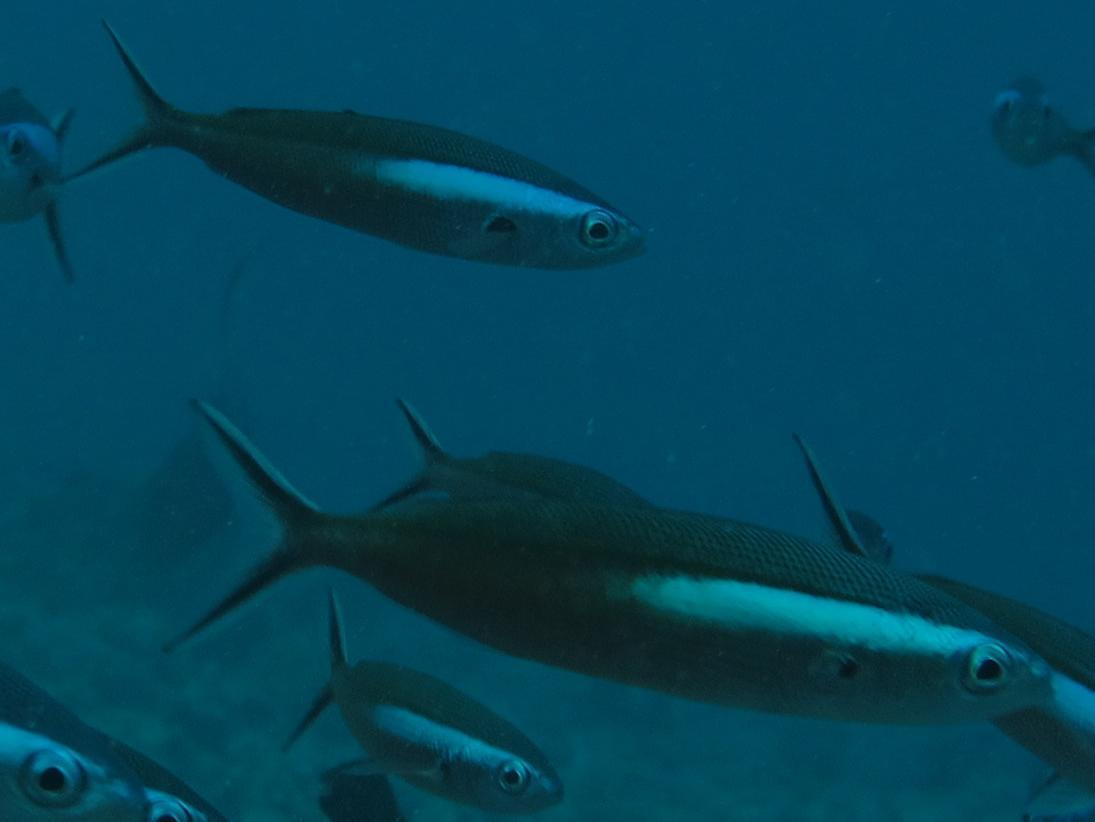Pterocaesio tile: (157, 345, 1066, 758), (39, 14, 666, 340)
